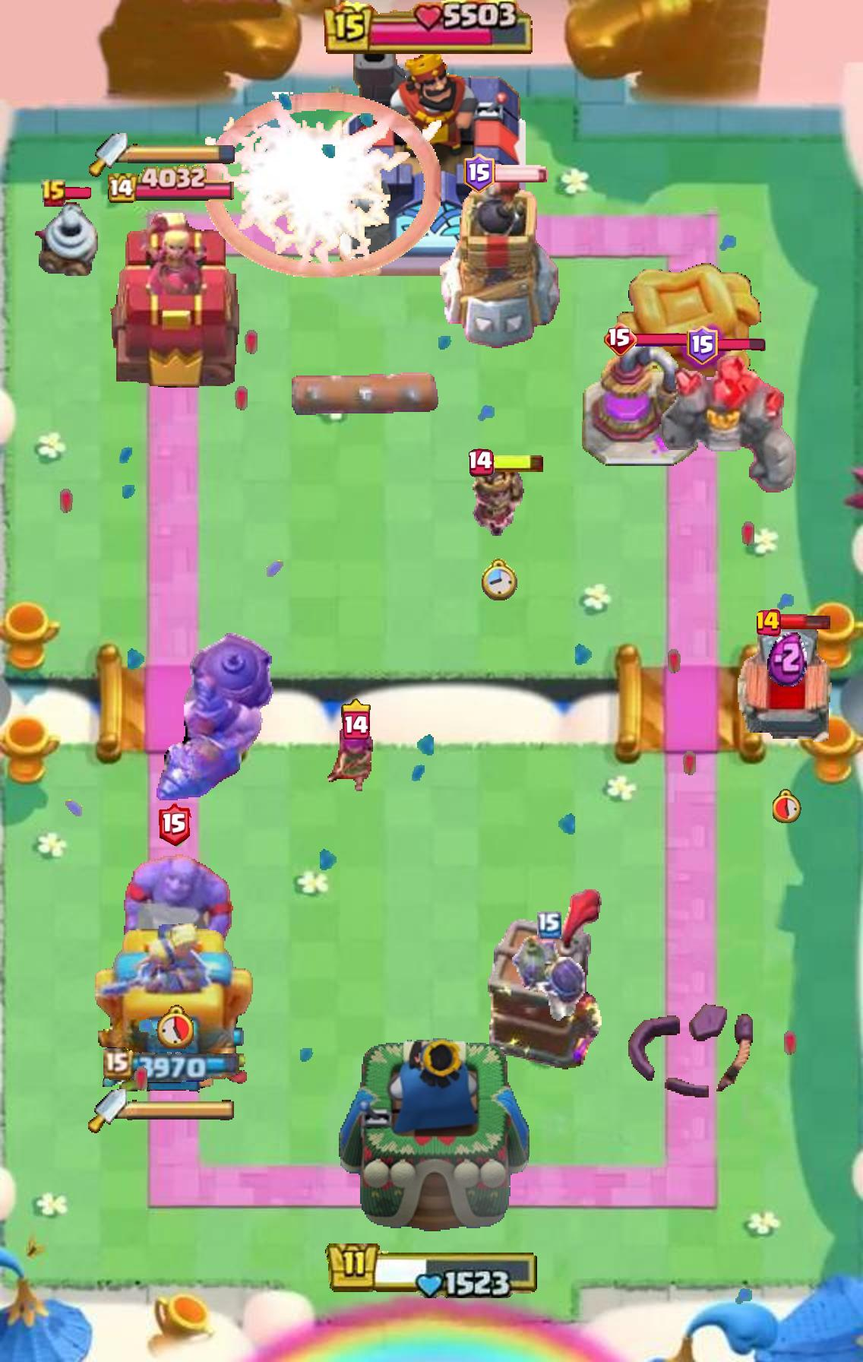elixir: (767, 630, 807, 687)
